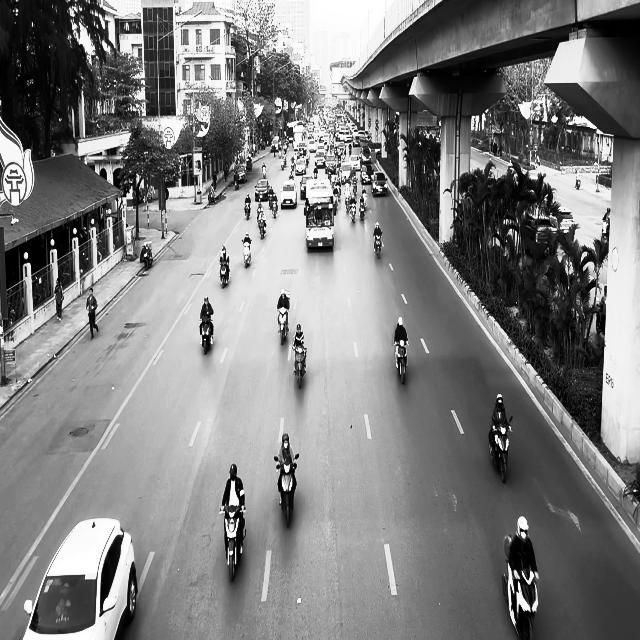bus: (304, 178, 334, 250)
car: (22, 518, 138, 640), (280, 180, 297, 208), (371, 171, 388, 196), (254, 178, 270, 201)
motorbike: (501, 535, 539, 640), (219, 505, 246, 582), (274, 453, 298, 527), (488, 415, 513, 483), (394, 340, 409, 384), (292, 345, 306, 389), (200, 314, 213, 354), (277, 308, 289, 345), (242, 238, 252, 267), (219, 260, 229, 288), (142, 243, 152, 269), (373, 232, 382, 258), (258, 216, 266, 239), (244, 202, 251, 220)
